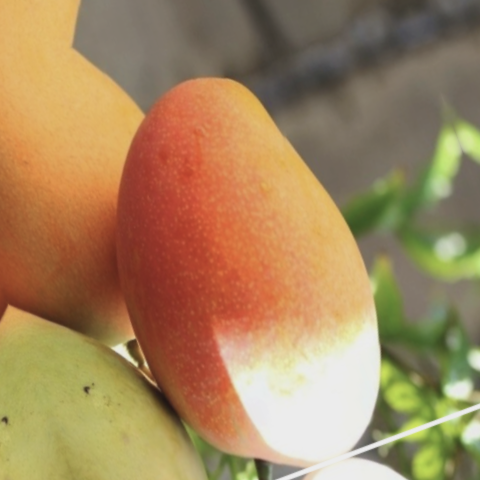mango: (12, 0, 445, 480)
